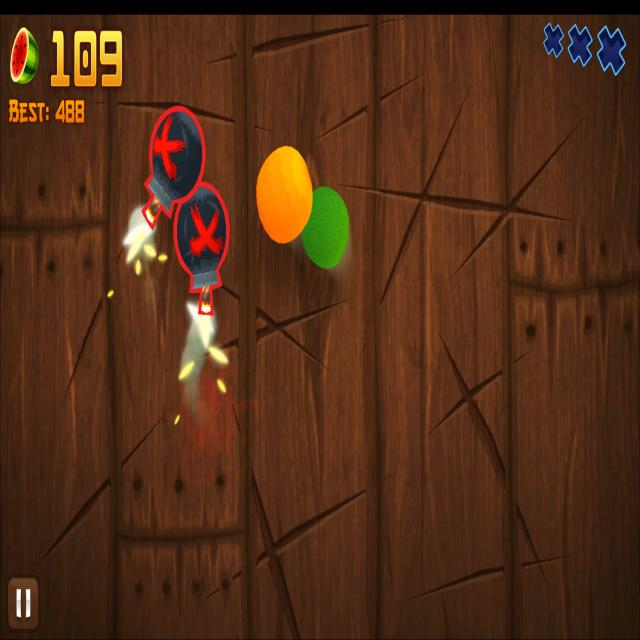bomb: (142, 104, 206, 232), (173, 180, 231, 316)
fruit: (256, 146, 313, 245), (302, 185, 349, 269)
